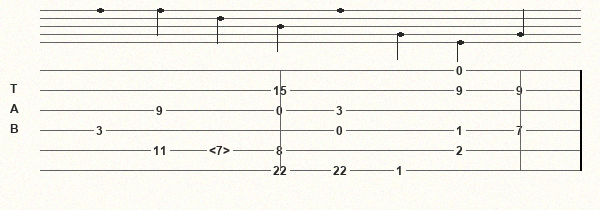0: (276, 104, 287, 117), (336, 124, 347, 137), (456, 64, 467, 77)
1: (396, 164, 407, 177), (456, 124, 467, 137)
11: (153, 144, 171, 157)
15: (273, 84, 291, 97)
2: (456, 144, 467, 157)
22: (273, 164, 291, 177), (333, 164, 351, 177)
3: (96, 124, 107, 137), (336, 104, 347, 117)
7: (516, 124, 527, 137)
8: (276, 144, 287, 157)
9: (156, 104, 167, 117), (456, 84, 467, 97), (516, 84, 527, 97)
harmonic: (209, 144, 234, 157)
